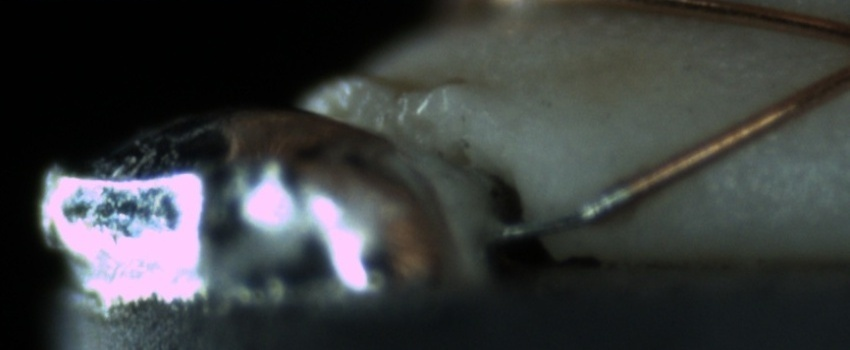TS: (499, 186, 630, 245)
TTCW: (501, 157, 664, 243)
